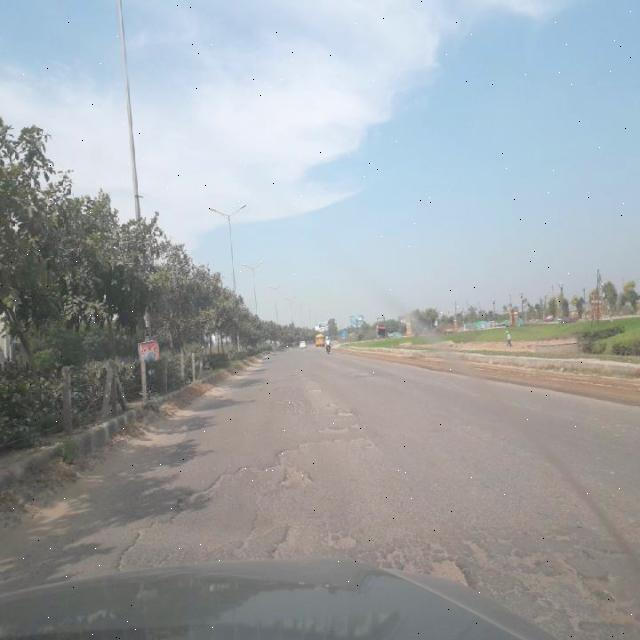D00: (103, 474, 272, 559)
D40: (484, 529, 636, 626), (377, 540, 473, 584), (243, 515, 313, 557), (271, 448, 321, 492), (319, 527, 361, 549), (326, 407, 358, 418), (322, 425, 356, 435), (300, 386, 334, 396)
